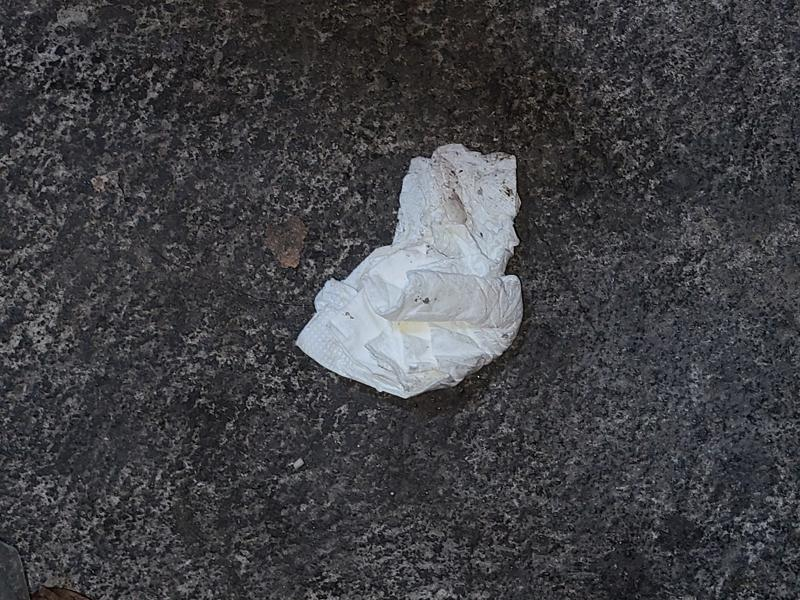papel: (294, 144, 525, 401)
